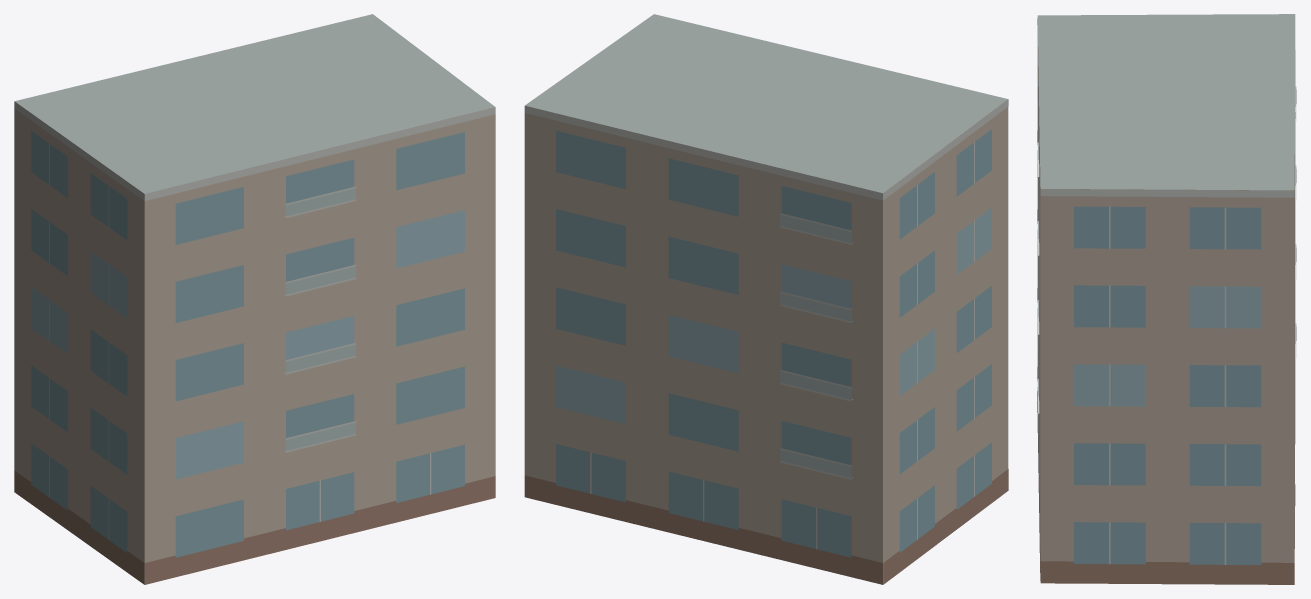
File: survey-upis-33041018.glb
3 views of the same model, side by side, from view 1: azimuth 30°, elevation 25°; view 2: azimuth 150°, elevation 25°; view 3: azimuth 270°, elevation 25° (orthographic).
Parts seen in each view (by area): view 1: survey-upis-33041018.tmp; view 2: survey-upis-33041018.tmp; view 3: survey-upis-33041018.tmp.
Part boxes in pixels (x1=…): survey-upis-33041018.tmp: x1=14, y1=14, x2=495, y2=584; survey-upis-33041018.tmp: x1=524, y1=14, x2=1008, y2=584; survey-upis-33041018.tmp: x1=1037, y1=14, x2=1296, y2=584.
Bounding box in the file's own units: 12.67 × 13.2 × 7.86.
